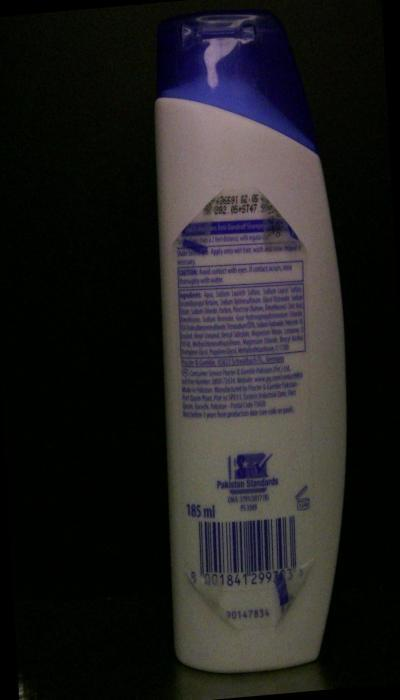adhesion_unacc: (261, 552, 324, 632), (166, 189, 224, 262), (258, 187, 311, 265), (185, 570, 235, 636)
